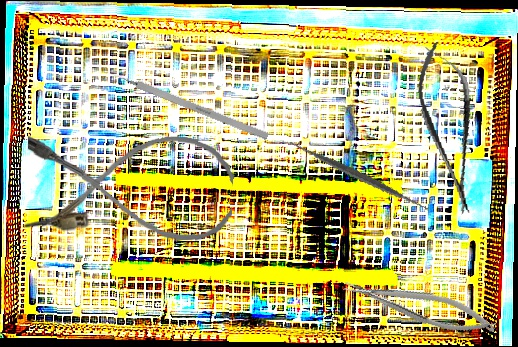Cannula: (23, 128, 236, 243)
Hook Surgical: (104, 67, 270, 141)
Micro Scissor: (409, 38, 489, 219)
Needle Holder: (340, 265, 500, 346)
Spatula Surgical: (287, 106, 431, 246)
